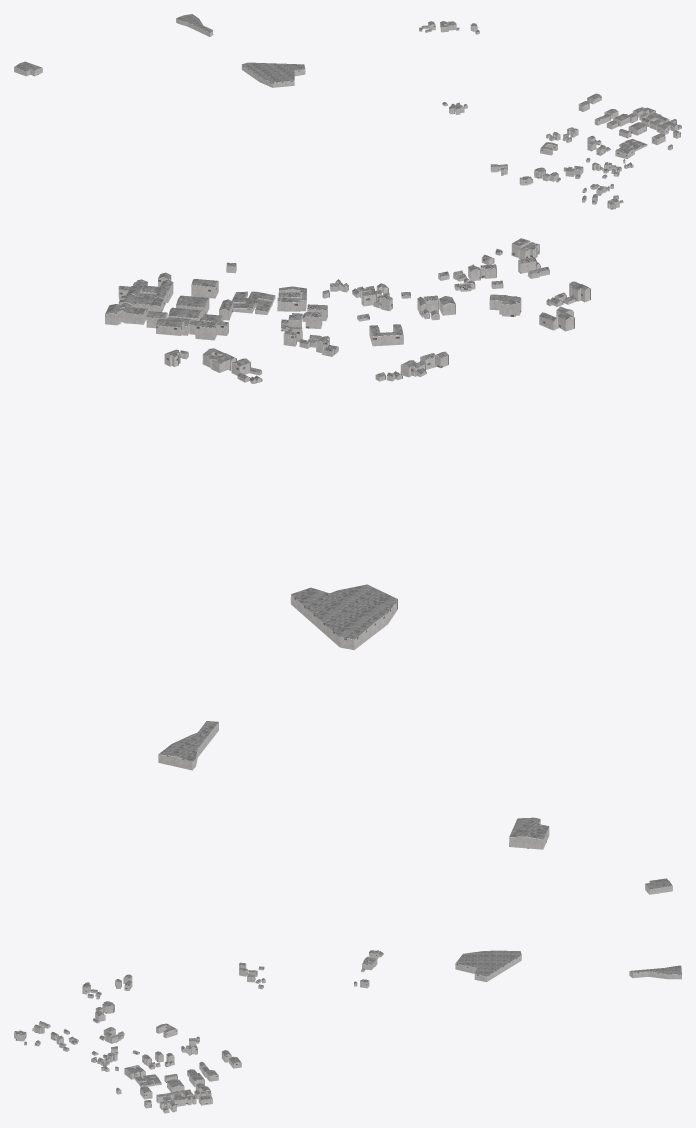
File: map001_buildings.135.glb
The picture shows the model from 3 angles, top to bottom: view 1: azimuth 30°, elevation 25°; view 2: azimuth 150°, elevation 25°; view 3: azimuth 270°, elevation 25°; orthographic projection. The views are drawn at different scales.
Visible parts, largest first — view 1: map001_buildings.135; view 2: map001_buildings.135; view 3: map001_buildings.135.
Boxes of the visible parts, x1=… form: map001_buildings.135: x1=14, y1=14, x2=681, y2=209; map001_buildings.135: x1=105, y1=238, x2=590, y2=849; map001_buildings.135: x1=14, y1=878, x2=681, y2=1113.
Size of the model in its own units: 1520 by 256 by 1830.
3 materials, 2 textured.
